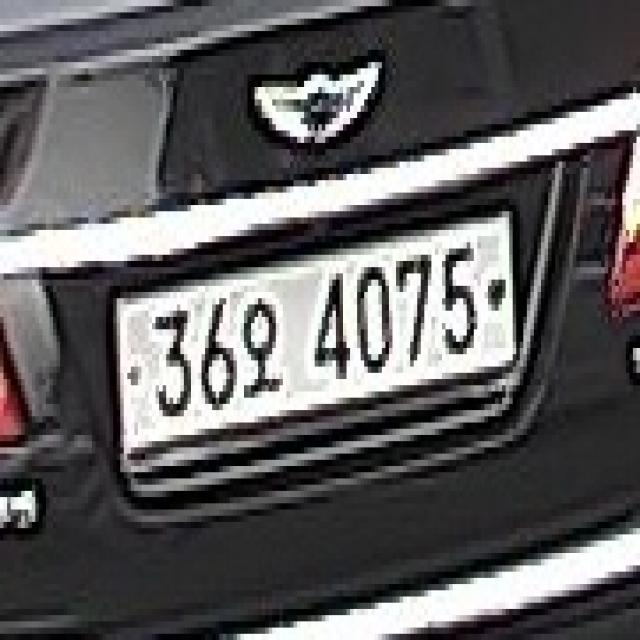0: (350, 261, 393, 379)
3: (148, 304, 194, 416)
4: (311, 274, 354, 386)
5: (442, 236, 477, 354)
6: (198, 298, 237, 410)
7: (392, 248, 435, 360)
license_plate: (113, 211, 520, 472)
o: (240, 292, 283, 404)
